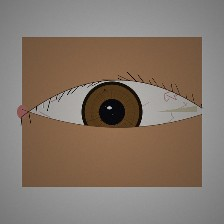pterygium_lesion: (151, 92, 202, 132)
